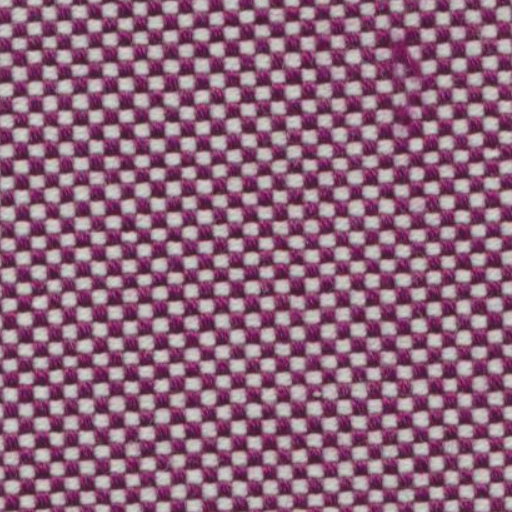DuanSha: (384, 31, 436, 83)
